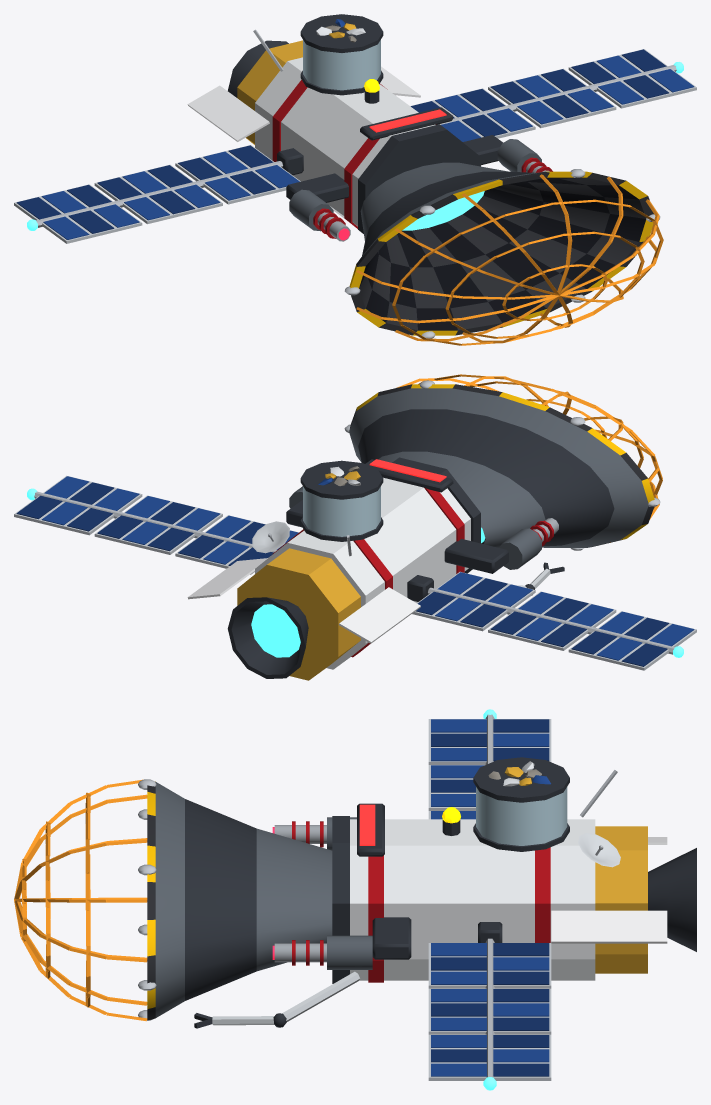
File: orbital_sweeper.glb
The picture shows the model from 3 angles, top to bottom: view 1: azimuth 30°, elevation 25°; view 2: azimuth 150°, elevation 25°; view 3: azimuth 270°, elevation 25°; orthographic projection. The views are drawn at different scales.
Parts seen in each view (by area): view 1: net, body, wings; view 2: body, net, wings; view 3: body, net, wings.
Boxes of the visible parts, x1,y1,x2,y2 form: net: (344,162,663,345); body: (187,14,552,241); wings: (14,49,696,243); body: (187,457,564,680); net: (344,374,662,550); wings: (14,475,696,670); body: (194,757,696,1028); net: (14,779,332,1021); wings: (428,709,551,1090).
Bounding box in the file's own units: 504 × 135 × 390.
